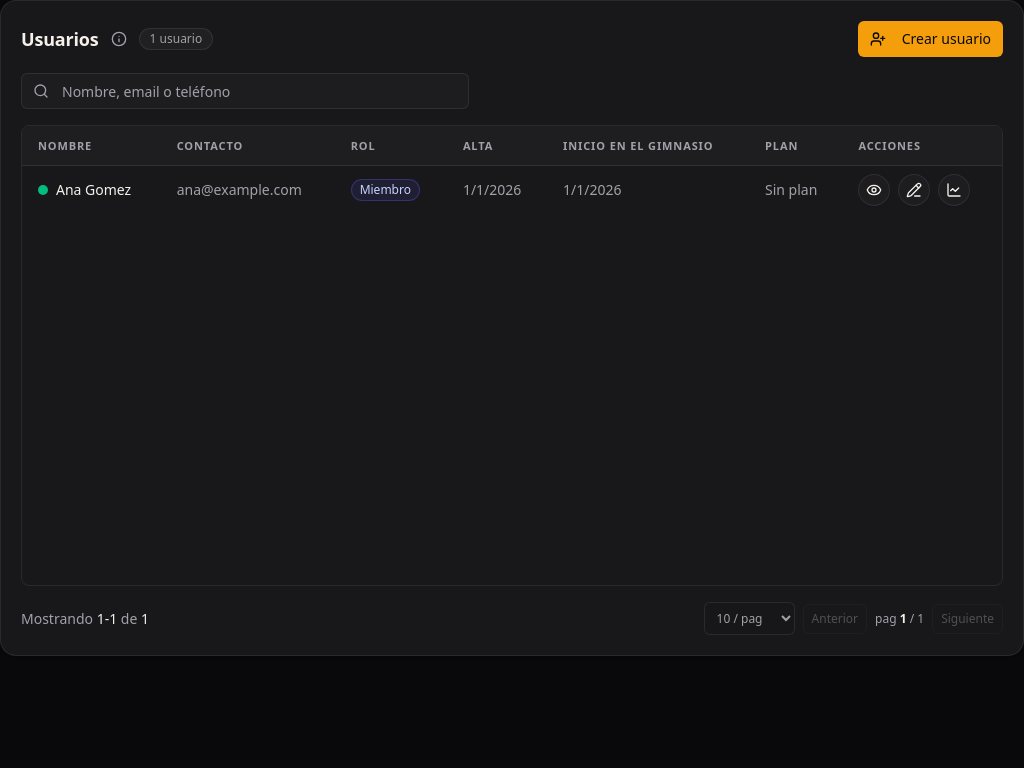
vista de Usuarios › la leyenda no es visible por defecto y aparece al hacer click en el icono de informacion
The width and height of the screenshot is (1024, 768).
expect the text "Ana Gomez" is shown: met, box [38,180,145,200]
expect the text "Leyenda" is not shown: met
Click the button named "ver leyenda de roles y estados" at {"x": 119, "y": 39}, box [107,27,131,51]
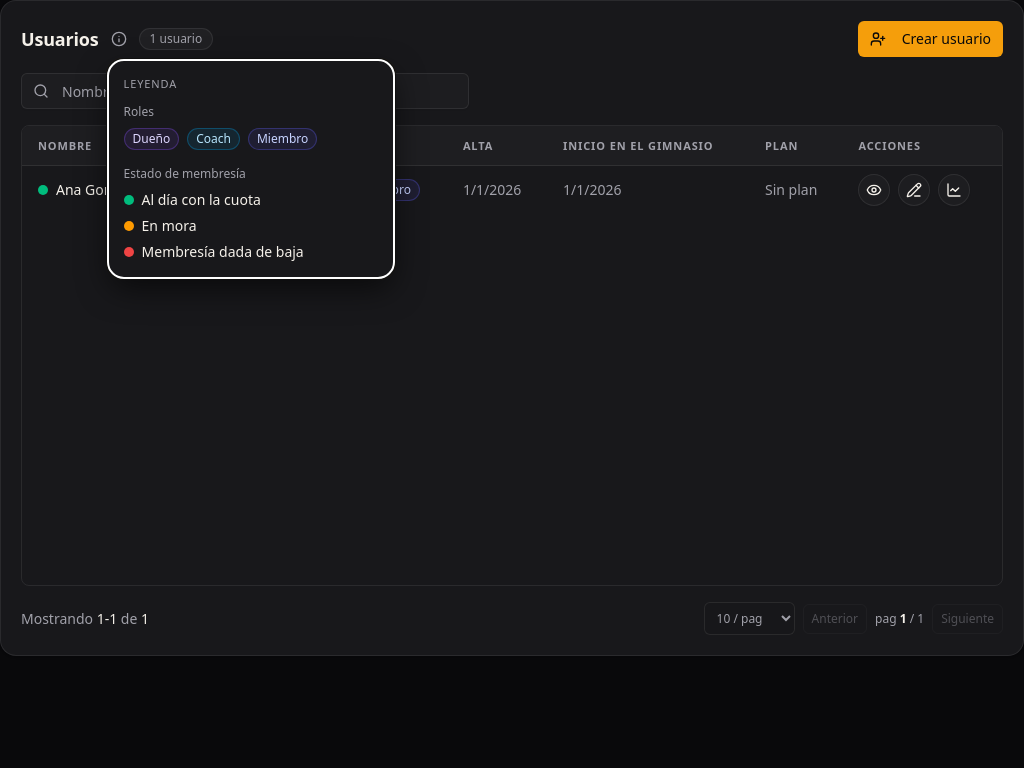
expect the text "Leyenda" is shown: met, box [124,76,177,91]
